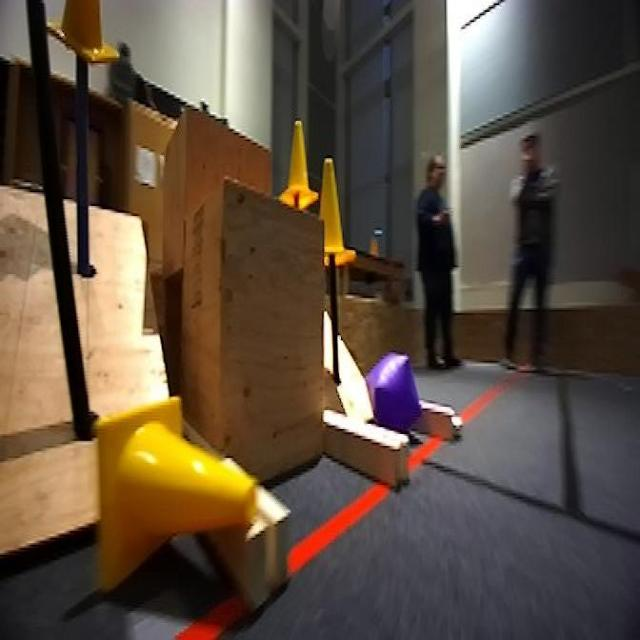frc_cone: (94, 393, 262, 601), (312, 155, 356, 274), (44, 0, 122, 66), (277, 116, 317, 216)
frc_cube: (365, 345, 424, 441)
